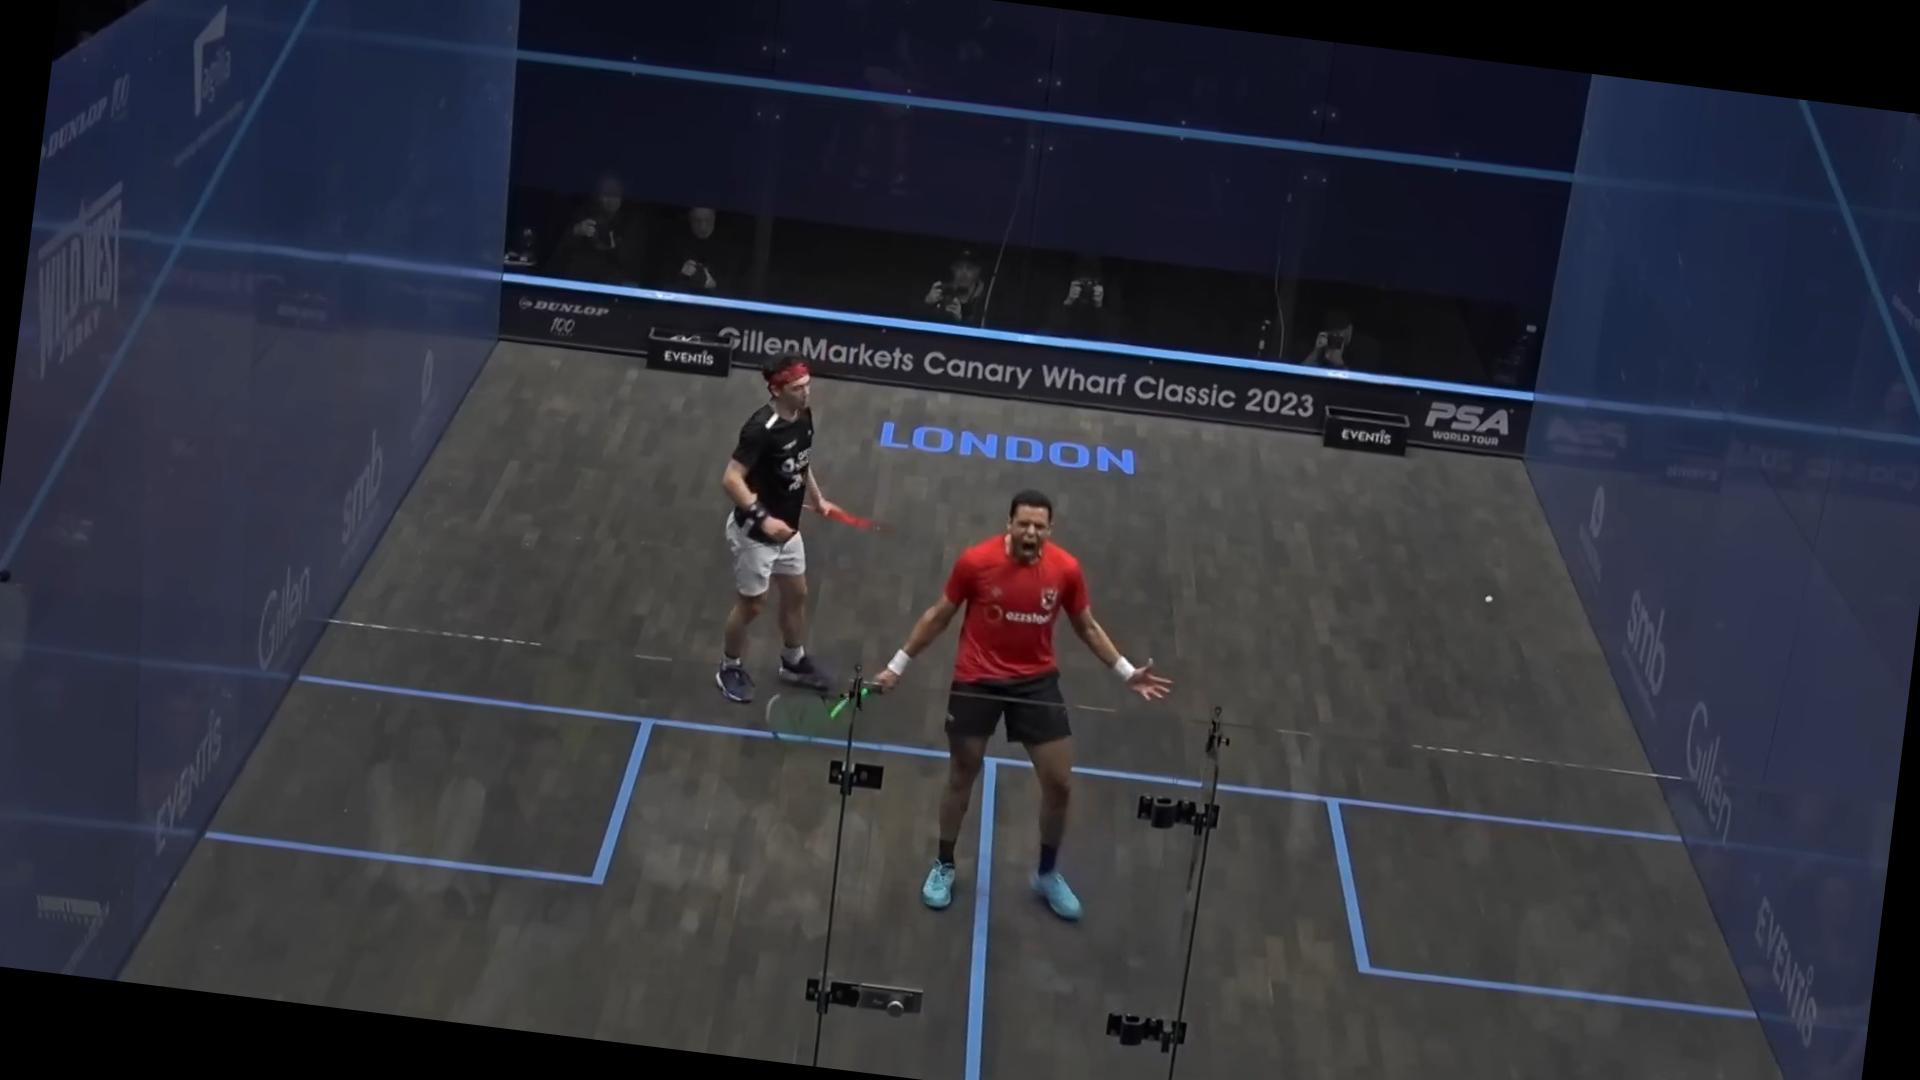Racket: (754, 670, 882, 765)
